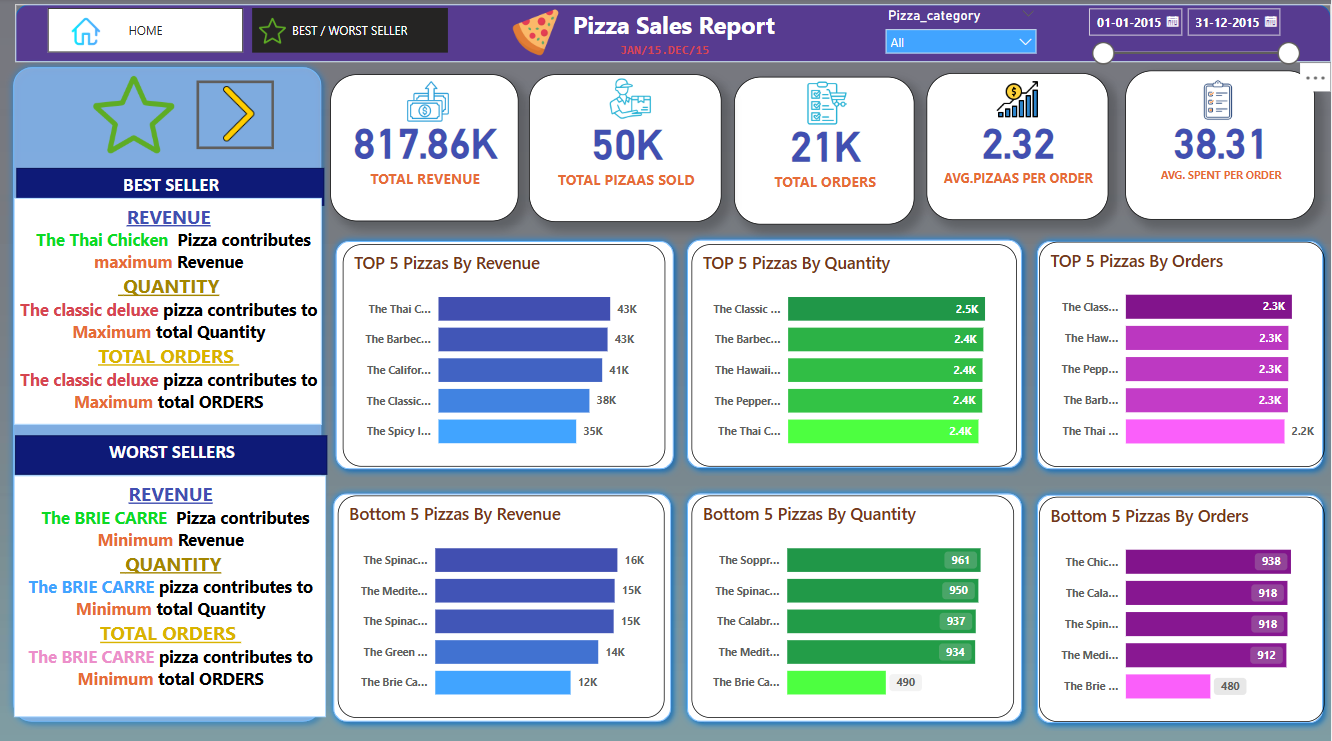

This screenshot's page, from the dashboard's own definition file:
{"tool":"powerbi","page":{"name":"BEST / WORST SELLER","canvas":[1500,840],"ordinal":1},"visuals":[{"type":"card","fields":{"Values":["pizza_sales.TOTAL REVENUE"]},"box":[373,85.5,211.7,165.6],"z":0,"group":"g3"},{"type":"group","id":"g1","title":"Group 1","box":[827.1,89.2,203.3,166.3],"z":0},{"type":"card","fields":{"Values":["pizza_sales.AVG. SPENT PER ORDER"]},"box":[1268.4,82.3,213.4,168],"z":1000,"group":"g5"},{"type":"group","id":"g2","title":"Group 2","box":[1045,84,205,166.3],"z":1000},{"type":"card","fields":{"Values":["pizza_sales.AVG.PIZAAS PER ORDER"]},"box":[1045,84,204.5,165.6],"z":1000,"group":"g2"},{"type":"group","id":"g3","title":"Group 3","box":[373,84.5,211.7,166.3],"z":2000},{"type":"image","box":[422.2,84.5,121,63.8],"z":2000,"group":"g3"},{"type":"card","fields":{"Values":["pizza_sales.TOTAL ORDERS"]},"box":[827.1,89.2,203.3,166.3],"z":2000,"group":"g1"},{"type":"group","id":"g4","title":"Group 4","box":[596.4,85,216.7,168],"z":3000},{"type":"card","fields":{"Values":["pizza_sales.TOTAL PIZAAS SOLD"]},"box":[596.4,86.7,216.7,166.3],"z":3000,"group":"g4"},{"type":"group","id":"g5","title":"Group 5","box":[1268.4,82.3,213.4,168],"z":4000},{"type":"image","box":[1333.5,88.1,79.8,55],"z":4000,"group":"g5"},{"type":"shape","box":[18.3,6.7,1481.7,65],"z":5000},{"type":"image","box":[675.7,85,69.7,57.9],"z":5000,"group":"g4"},{"type":"image","box":[890,89.2,82.6,59.1],"z":5000,"group":"g1"},{"type":"textbox","box":[609.8,6.7,300.7,50.4],"z":6000},{"type":"textbox","box":[680.4,43.7,139.4,38.6],"z":7000},{"type":"image","box":[568.3,6.7,71.7,63.3],"z":8000},{"type":"image","box":[1092.5,84,109.4,59],"z":8002,"group":"g2"},{"type":"shape","box":[370,265,398.3,275],"z":9000},{"type":"shape","box":[6.7,68.3,365,755],"z":10000},{"type":"group","id":"g6","title":"Group 6","box":[16.8,191.5,349.4,289],"z":11000},{"type":"group","id":"g7","title":"Group 6","box":[16.8,492.6,353.1,316.9],"z":12000},{"type":"slicer","fields":{"Values":["pizza_sales.pizza_category"]},"box":[988.3,5,190,65],"z":13000},{"type":"slicer","fields":{"Values":["pizza_sales.order_date"]},"box":[1215,1.7,258.3,78.3],"z":14000},{"type":"shape","box":[765,263.3,395,275],"z":15000},{"type":"shape","box":[1160,265,340,275],"z":16000},{"type":"shape","box":[366.7,548.3,398.3,275],"z":17000},{"type":"shape","box":[765,548.3,395,275],"z":18000},{"type":"shape","box":[1160,550,340,275],"z":19000},{"type":"textbox","box":[19,191.5,346.7,42],"z":20000,"group":"g6"},{"type":"barChart","title":"TOP 5 Pizzas By Revenue ","fields":{"Category":["pizza_sales.pizza_name"],"Y":["pizza_sales.TOTAL REVENUE"]},"box":[386.7,276.7,363.3,250],"z":20000},{"type":"textbox","box":[18.8,492.6,351.1,43.7],"z":20000,"group":"g7"},{"type":"textbox","box":[16.8,225.6,346.7,255],"z":21000,"group":"g6"},{"type":"textbox","box":[16.8,537.4,351.1,272.2],"z":21000,"group":"g7"},{"type":"barChart","title":"Bottom 5 Pizzas By Revenue ","fields":{"Category":["pizza_sales.pizza_name"],"Y":["pizza_sales.TOTAL REVENUE"]},"box":[381.7,560,368.3,250],"z":21000},{"type":"barChart","title":"TOP 5 Pizzas By Quantity","fields":{"Category":["pizza_sales.pizza_name"],"Y":["pizza_sales.TOTAL PIZAAS SOLD"]},"box":[780,276.7,366.7,250],"z":22000},{"type":"barChart","title":"Bottom 5 Pizzas By Quantity","fields":{"Category":["pizza_sales.pizza_name"],"Y":["pizza_sales.TOTAL PIZAAS SOLD"]},"box":[780,560,363.3,250],"z":23000},{"type":"barChart","title":"TOP 5 Pizzas By Orders","fields":{"Category":["pizza_sales.pizza_name"],"Y":["pizza_sales.TOTAL ORDERS"]},"box":[1171.7,275,321.7,253.3],"z":24000},{"type":"barChart","title":"Bottom 5 Pizzas By Orders","fields":{"Category":["pizza_sales.pizza_name"],"Y":["pizza_sales.TOTAL ORDERS"]},"box":[1171.7,561.7,321.7,253.3],"z":25000},{"type":"pageNavigator","box":[55.4,11.8,450.2,50.4],"z":26000},{"type":"image","box":[100.8,80.6,100.8,102.5],"z":27000},{"type":"image","box":[225.1,94.1,89,72.2],"z":28000},{"type":"actionButton","box":[221.8,92.4,87.4,77.3],"z":29000},{"type":"image","box":[287.3,16.8,42,40.3],"z":30000},{"type":"image","box":[50.4,16.8,94.1,42],"z":31000}]}

Visuals, with their boxes on the page's 1500x840 design canvas (x1, y1, x2, y2). These are canvas units, not pixel positions in the 1332x741 screenshot, which may show the page scaled, cropped or inside an application window:
card - pizza_sales.TOTAL REVENUE: <box>373,86,585,251</box>
"Group 1" group: <box>827,89,1030,256</box>
card - pizza_sales.AVG. SPENT PER ORDER: <box>1268,82,1482,250</box>
"Group 2" group: <box>1045,84,1250,250</box>
card - pizza_sales.AVG.PIZAAS PER ORDER: <box>1045,84,1250,250</box>
"Group 3" group: <box>373,84,585,251</box>
image: <box>422,84,543,148</box>
card - pizza_sales.TOTAL ORDERS: <box>827,89,1030,256</box>
"Group 4" group: <box>596,85,813,253</box>
card - pizza_sales.TOTAL PIZAAS SOLD: <box>596,87,813,253</box>
"Group 5" group: <box>1268,82,1482,250</box>
image: <box>1334,88,1413,143</box>
shape: <box>18,7,1500,72</box>
image: <box>676,85,745,143</box>
image: <box>890,89,973,148</box>
textbox: <box>610,7,910,57</box>
textbox: <box>680,44,820,82</box>
image: <box>568,7,640,70</box>
image: <box>1092,84,1202,143</box>
shape: <box>370,265,768,540</box>
shape: <box>7,68,372,823</box>
"Group 6" group: <box>17,192,366,480</box>
"Group 6" group: <box>17,493,370,810</box>
slicer - pizza_sales.pizza_category: <box>988,5,1178,70</box>
slicer - pizza_sales.order_date: <box>1215,2,1473,80</box>
shape: <box>765,263,1160,538</box>
shape: <box>1160,265,1500,540</box>
shape: <box>367,548,765,823</box>
shape: <box>765,548,1160,823</box>
shape: <box>1160,550,1500,825</box>
textbox: <box>19,192,366,234</box>
"TOP 5 Pizzas By Revenue " barChart: <box>387,277,750,527</box>
textbox: <box>19,493,370,536</box>
textbox: <box>17,226,364,481</box>
textbox: <box>17,537,368,810</box>
"Bottom 5 Pizzas By Revenue " barChart: <box>382,560,750,810</box>
"TOP 5 Pizzas By Quantity" barChart: <box>780,277,1147,527</box>
"Bottom 5 Pizzas By Quantity" barChart: <box>780,560,1143,810</box>
"TOP 5 Pizzas By Orders" barChart: <box>1172,275,1493,528</box>
"Bottom 5 Pizzas By Orders" barChart: <box>1172,562,1493,815</box>
pageNavigator: <box>55,12,506,62</box>
image: <box>101,81,202,183</box>
image: <box>225,94,314,166</box>
actionButton: <box>222,92,309,170</box>
image: <box>287,17,329,57</box>
image: <box>50,17,144,59</box>
